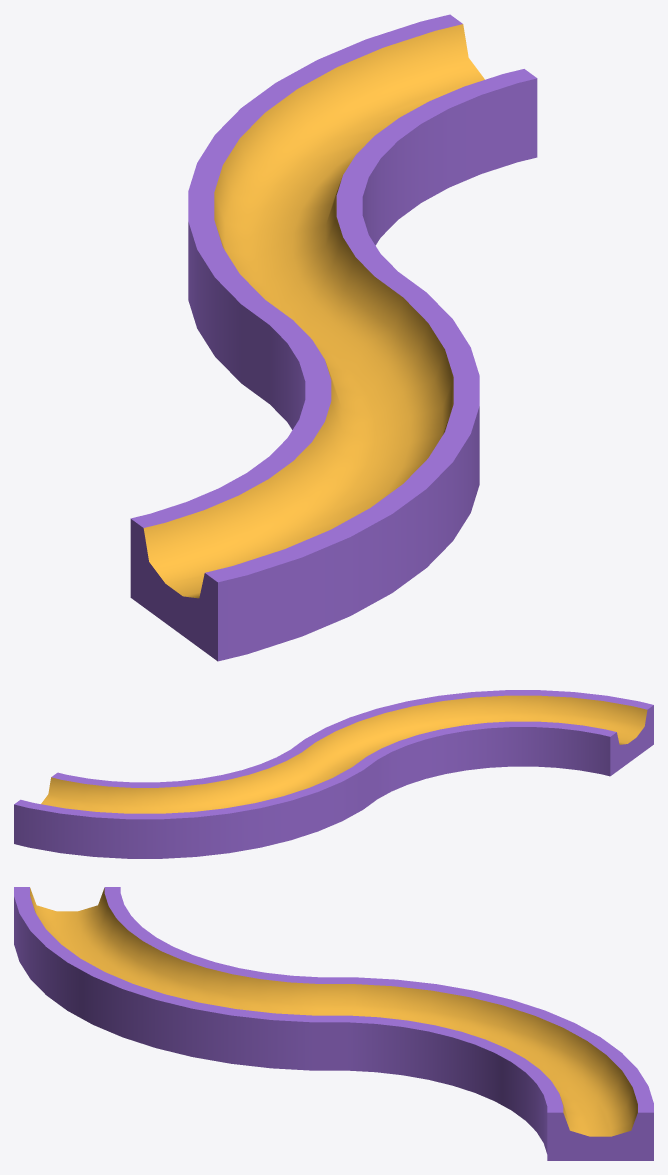
The model's file is s-curve-left-large-col.glb.
3 views of the same model, one above another, from view 1: azimuth 30°, elevation 25°; view 2: azimuth 150°, elevation 25°; view 3: azimuth 270°, elevation 25° (orthographic). The views are drawn at different scales.
Parts seen in each view (by area): view 1: s-curve-left-large-col; view 2: s-curve-left-large-col; view 3: s-curve-left-large-col.
Boxes of the visible parts, x1=… form: s-curve-left-large-col: x1=130, y1=14, x2=537, y2=661; s-curve-left-large-col: x1=14, y1=690, x2=653, y2=858; s-curve-left-large-col: x1=14, y1=887, x2=653, y2=1160.
Size of the model in its own units: 5 by 0.5 by 6.
1 material, 1 textured.
